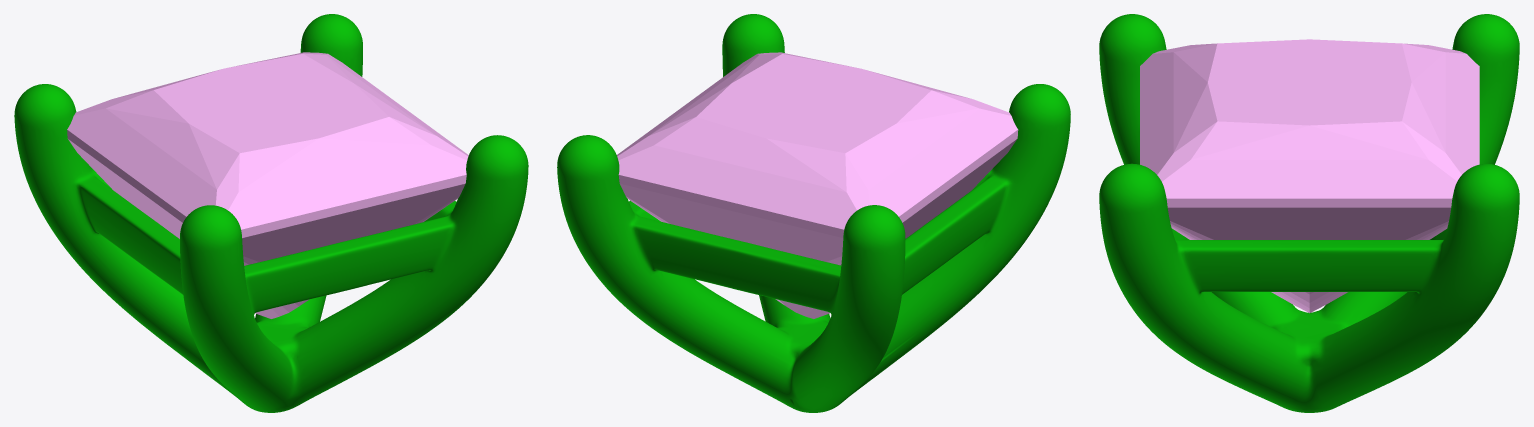
3 views of the same model, side by side, from view 1: azimuth 30°, elevation 25°; view 2: azimuth 150°, elevation 25°; view 3: azimuth 270°, elevation 25° (orthographic). The views are drawn at different scales.
Parts seen in each view (by area): view 1: Metal01, Diamond_Princess; view 2: Metal01, Diamond_Princess; view 3: Metal01, Diamond_Princess.
Boxes of the visible parts, bbox=[...] form: Metal01: bbox=[14, 14, 528, 412]; Diamond_Princess: bbox=[67, 52, 468, 318]; Metal01: bbox=[557, 14, 1070, 412]; Diamond_Princess: bbox=[617, 52, 1018, 318]; Metal01: bbox=[1099, 14, 1519, 412]; Diamond_Princess: bbox=[1140, 39, 1479, 313].
Size of the model in its own units: 8.6 by 7.29 by 8.6.
